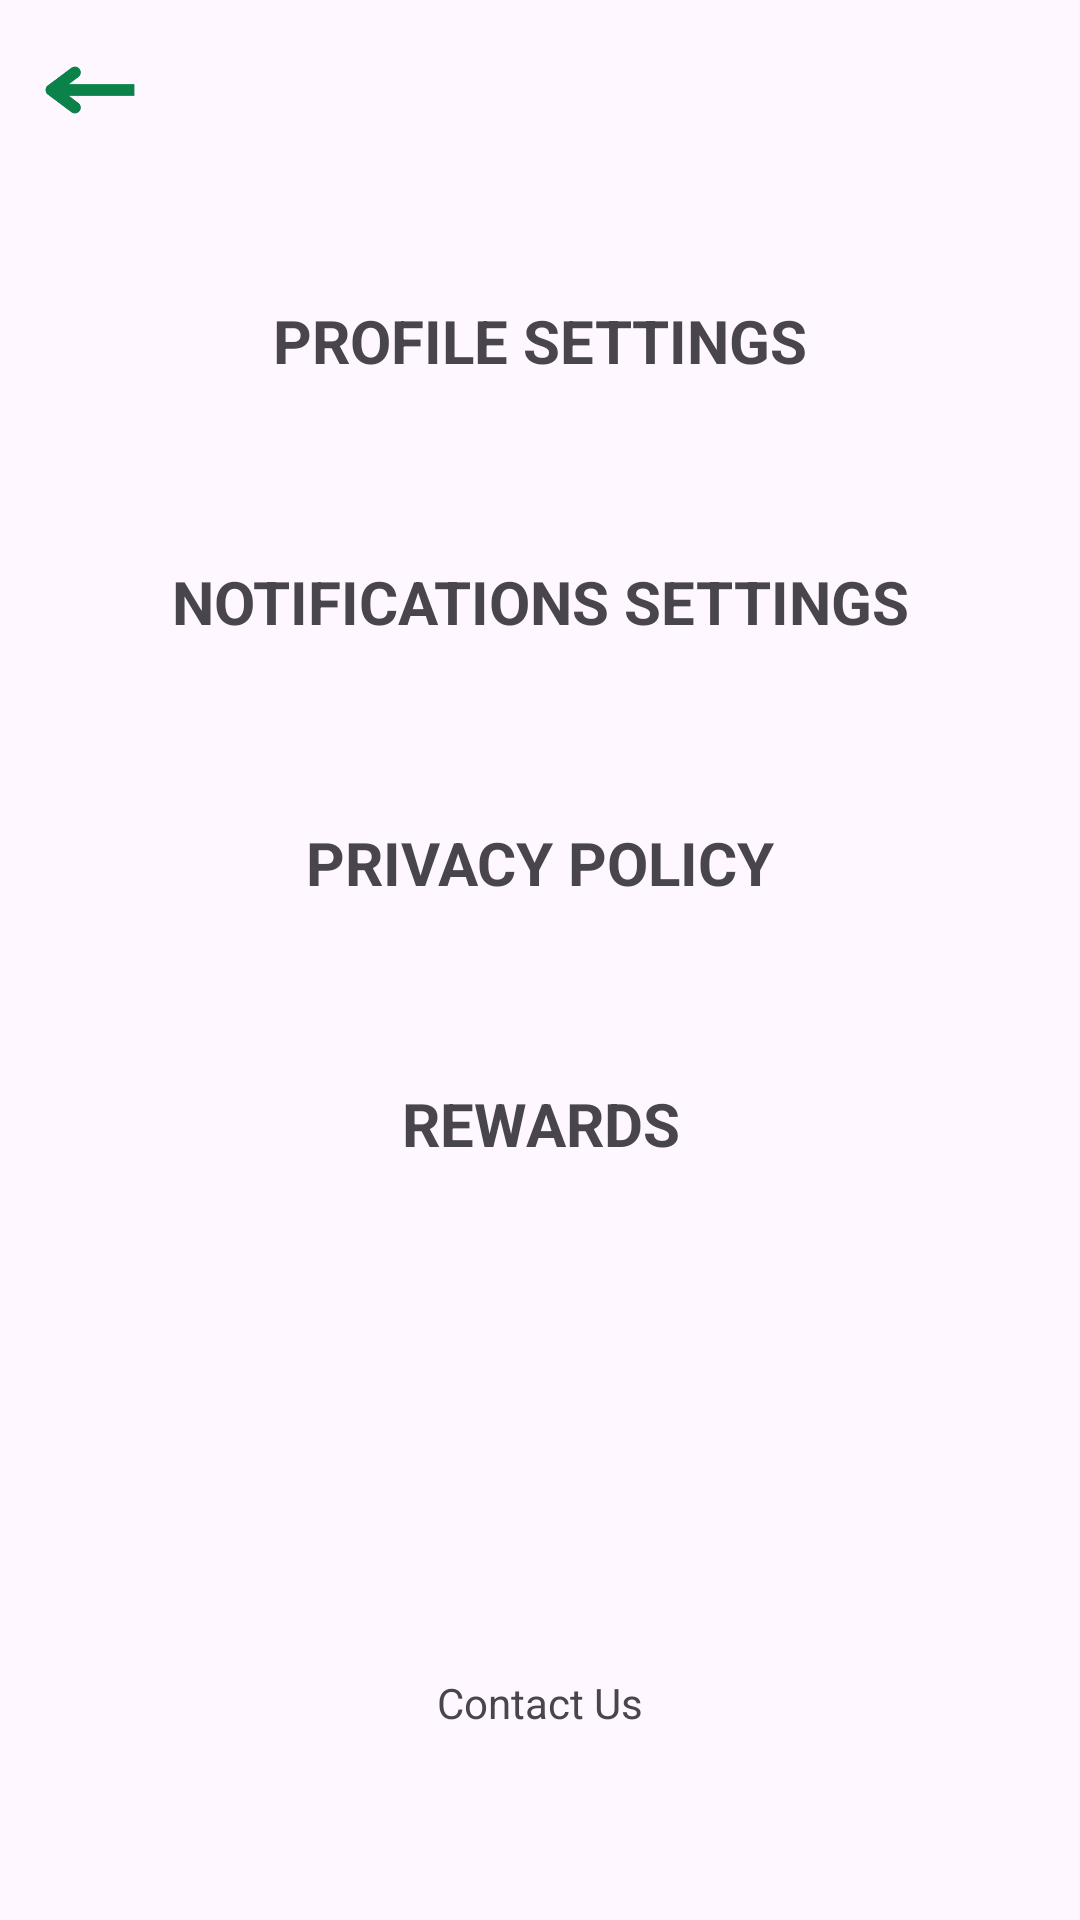

Named icons in this screenshot (1080x1920) and their centers, (x,y):
back settings: (90,90)
